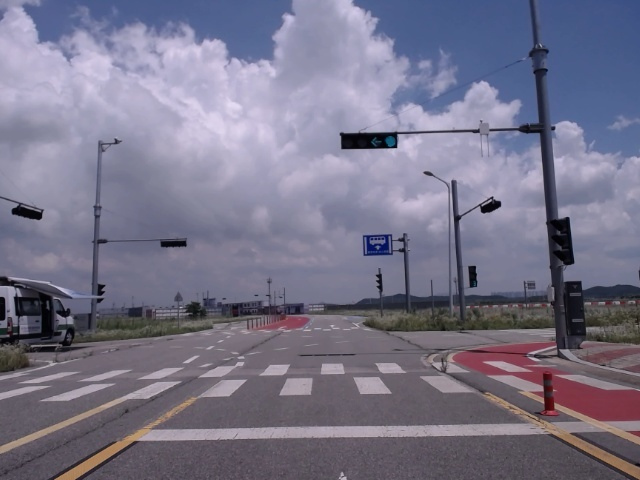all_green_4: (339, 132, 398, 149)
